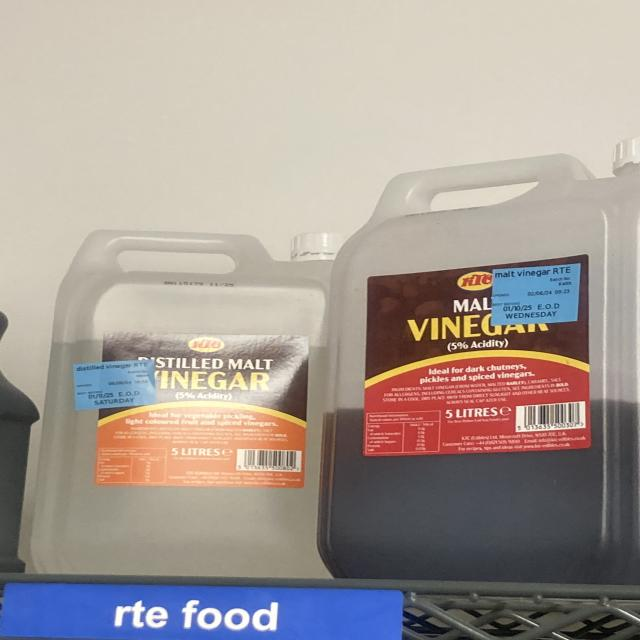product-labels: (490, 262, 581, 327), (73, 359, 159, 411)
